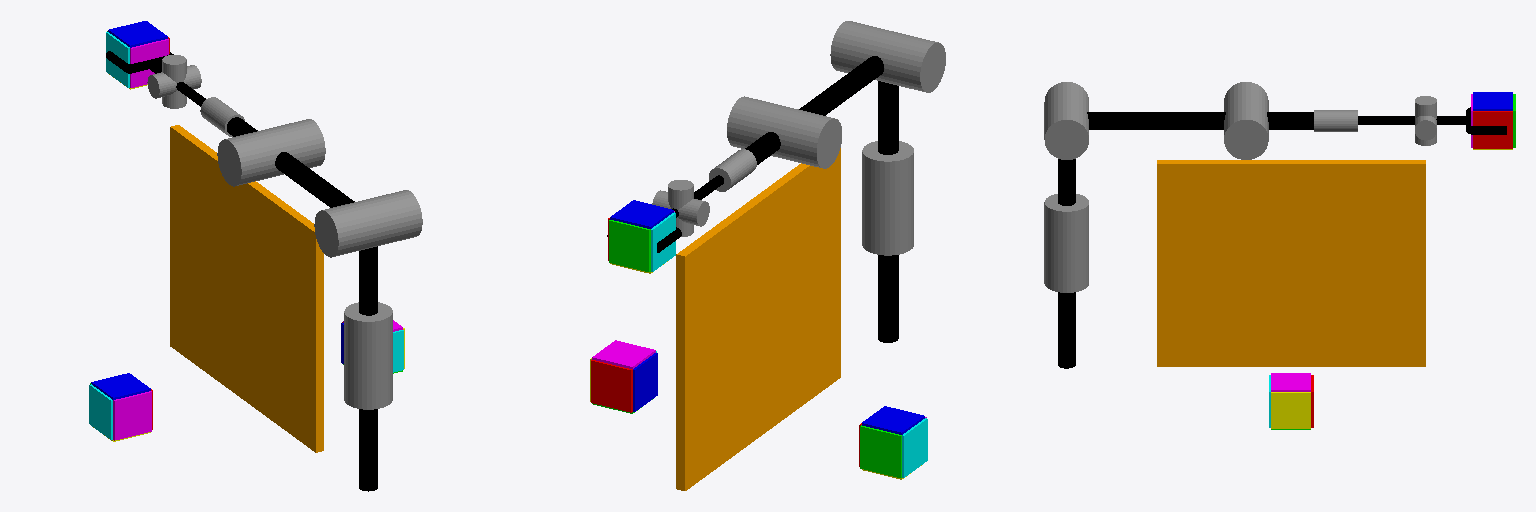
--- Render facts (derived) ---
3 views of the same robot in one strip: view 1: azimuth 30°, elevation 25°; view 2: azimuth 150°, elevation 25°; view 3: azimuth 270°, elevation 25° (orthographic).
Model sixDOF with 48 links and 47 joints (6 continuous, 41 fixed), rooted at world, posed every joint at zero.
Links seen in each view (by area): view 1: wall, motor2, motor1, motor3, rcub-ym, mount3, mount1, mount2, rcub-xm, cube-ym, rcub-zp, cube-zp (+4 smaller); view 2: wall, motor1, motor2, motor3, lcub-xp, rcub-yp, cube-yp, mount1, mount3, mount2, rcub-xm, lcub-zp (+8 smaller); view 3: wall, motor1, motor2, motor3, mount3, lcub-zm, mount1, cube-xp, motor4, mount4, mount2, cube-zp (+2 smaller).
Link boxes in pixels (<box>): wall: <box>170,125,323,452</box>; motor2: <box>314,190,422,257</box>; motor1: <box>344,302,392,409</box>; motor3: <box>217,119,325,186</box>; rcub-ym: <box>113,391,151,440</box>; mount3: <box>275,152,354,207</box>; mount1: <box>359,409,377,491</box>; mount2: <box>359,246,377,315</box>; rcub-xm: <box>89,384,112,439</box>; cube-ym: <box>130,39,168,87</box>; rcub-zp: <box>91,373,150,399</box>; cube-zp: <box>108,21,167,47</box>; wall: <box>676,148,840,490</box>; motor1: <box>862,141,913,255</box>; motor2: <box>830,21,945,92</box>; motor3: <box>727,96,841,168</box>; lcub-xp: <box>591,360,632,412</box>; rcub-yp: <box>860,425,901,477</box>; cube-yp: <box>609,220,650,271</box>; mount1: <box>878,255,898,342</box>; mount3: <box>799,56,883,115</box>; mount2: <box>878,81,898,154</box>; rcub-xm: <box>902,418,927,477</box>; lcub-zp: <box>633,353,657,411</box>; wall: <box>1157,160,1425,366</box>; motor1: <box>1044,194,1088,292</box>; motor2: <box>1044,82,1088,159</box>; motor3: <box>1224,82,1268,159</box>; mount3: <box>1087,112,1225,129</box>; lcub-zm: <box>1271,392,1310,428</box>; mount1: <box>1058,292,1075,368</box>; cube-xp: <box>1473,111,1512,148</box>; motor4: <box>1314,110,1357,131</box>; mount4: <box>1267,112,1313,129</box>; mount2: <box>1058,159,1075,205</box>; cube-zp: <box>1473,92,1512,110</box>.
Bounding box of the posed robot: 0.7002 × 1.05 × 0.6502 m (x, y, z).
Geometry: primitives only (box / cylinder / sphere), no mesh files.

robot.urdf — sixDOF:
<?xml version="1.0"?>

<robot name="sixDOF">
  
  <!-- *************************************************** -->
  <!-- ******************** Kinematics ******************* -->
  <!-- *************************************************** -->

  <link name="world"/>

  <joint name="theta1" type="continuous">
    <parent link="world"/>
    <child  link="link1"/>
    <origin xyz="0 0 0.6" rpy="0 0 0"/>
    <axis   xyz="0 0 1"/>
    <dynamics damping="0.5"/>
  </joint>

  <link name="link1"/>

  <joint name="theta2" type="continuous">
    <parent link="link1"/>
    <child  link="link2"/>
    <origin xyz="0 0 0" rpy="0 0 0"/>
    <axis   xyz="1 0 0"/>
    <dynamics damping="0.5"/>
  </joint>

  <link name="link2"/>

  <joint name="attach-shoulder" type="fixed">
    <parent link="link2"/>
    <child  link="shoulder"/>
  </joint>

  <link name="shoulder"/>

  <joint name="theta3" type="continuous">
    <parent link="link2"/>
    <child  link="link3"/>
    <origin xyz="0 0.4 0" rpy="0 0 0"/>
    <axis   xyz="1 0 0 "/>
    <dynamics damping="0.1"/>
  </joint>

  <link name="link3"/>

  <joint name="attach-elbow" type="fixed">
    <parent link="link3"/>
    <child  link="elbow"/>
  </joint>

  <link name="elbow"/>

  <joint name="theta4" type="continuous">
    <parent link="link3"/>
    <child  link="link4"/>
    <origin xyz="0 0.4 0" rpy="0 0 0"/>
    <axis   xyz="0 1 0"/>
    <dynamics damping="0.02"/>
  </joint>

  <link name="link4"/>

  <joint name="theta5" type="continuous">
    <parent link="link4"/>
    <child  link="link5"/>
    <origin xyz="0 0 0" rpy="0 0 0"/>
    <axis   xyz="0 0 1"/>
    <dynamics damping="0.02"/>
  </joint>

  <link name="link5"/>

  <joint name="theta6" type="continuous">
    <parent link="link5"/>
    <child  link="link6"/>
    <origin xyz="0 0 0" rpy="0 0 0"/>
    <axis   xyz="1 0 0"/>
    <dynamics damping="0.02"/>
  </joint>

  <link name="link6"/>

  <joint name="attach-wrist" type="fixed">
    <parent link="link6"/>
    <child  link="wrist"/>
  </joint>

  <link name="wrist"/>

  <joint name="final" type="fixed">
    <parent link="link6"/>
    <child  link="tip"/>
    <origin xyz="0 0.15 0" rpy="0 0 0"/>
  </joint>

  <link name="tip"/>


  <!-- *************************************************** -->
  <!-- ******************* RVIZ Colors ******************* -->
  <!-- *************************************************** -->

  <material name="white">    <color rgba="1.00 1.00 1.00 1"/>  </material>
  <material name="gray">     <color rgba="0.60 0.60 0.60 1"/>  </material>
  <material name="table">    <color rgba="0.85 0.77 0.77 1"/>  </material>
  <material name="black">    <color rgba="0.00 0.00 0.00 1"/>  </material>

  <material name="red">      <color rgba="1.00 0.00 0.00 1"/>  </material>
  <material name="green">    <color rgba="0.00 1.00 0.00 1"/>  </material>
  <material name="blue">     <color rgba="0.00 0.00 1.00 1"/>  </material>

  <material name="cyan">     <color rgba="0.00 1.00 1.00 1"/>  </material>
  <material name="magenta">  <color rgba="1.00 0.00 1.00 1"/>  </material>
  <material name="yellow">   <color rgba="1.00 1.00 0.00 1"/>  </material>

  <material name="orange">   <color rgba="1.00 0.65 0.00 1"/>  </material>


  <!-- *************************************************** -->
  <!-- ****** Building Blocks (Visual AND Inertial) ****** -->
  <!-- *************************************************** -->

  <!-- *** World-Fixed: Mount 1, Motor 1 *** -->

  <joint name="attach-mount1" type="fixed">
    <parent link="world"/>
    <child  link="mount1"/>
  </joint>
  <link name="mount1">
    <visual>
      <origin xyz="0 0 0.1" rpy="0 0 0"/>
      <geometry>
	<cylinder length="0.2" radius="0.02"/>
      </geometry>
      <material name="black"/>
    </visual>
    <collision>
      <origin xyz="0 0 0.1" rpy="0 0 0"/>
      <geometry>
	<cylinder length="0.2" radius="0.02"/>
      </geometry>
    </collision>
    <inertial>
      <origin xyz="0 0 0.1" rpy="0 0 0"/>
      <mass value="0.2"/>
      <inertia
        ixx="0.000687" ixy="0.0" ixz="0.0"
        iyy="0.000687" iyz="0.0"
        izz="0.000040"/>
    </inertial>
  </link>

  <joint name="attach-motor1" type="fixed">
    <parent link="world"/>
    <child  link="motor1"/>
  </joint>
  <link name="motor1">
    <visual>
      <origin xyz="0 0 0.3" rpy="0 0 0"/>
      <geometry>
	<cylinder length="0.2" radius="0.05"/>
      </geometry>
      <material name="gray"/>
    </visual>
    <collision>
      <origin xyz="0 0 0.3" rpy="0 0 0"/>
      <geometry>
	<cylinder length="0.2" radius="0.05"/>
      </geometry>
    </collision>
    <inertial>
      <origin xyz="0 0 0.3" rpy="0 0 0"/>
      <mass value="2.0"/>
      <inertia
        ixx="0.007917" ixy="0.0" ixz="0.0"
        iyy="0.007917" iyz="0.0"
        izz="0.002500"/>
    </inertial>
  </link>

  <!-- *** Motor 1 Output: Mount 2, Motor 2 *** -->

  <joint name="attach-mount2" type="fixed">
    <parent link="link1"/>
    <child  link="mount2"/>
  </joint>
  <link name="mount2">
    <visual>
      <origin xyz="0 0 -0.1" rpy="0 0 0"/>
      <geometry>
	<cylinder length="0.2" radius="0.02"/>
      </geometry>
      <material name="black"/>
    </visual>
    <collision>
      <origin xyz="0 0 -0.1" rpy="0 0 0"/>
      <geometry>
	<cylinder length="0.2" radius="0.02"/>
      </geometry>
    </collision>
    <inertial>
      <origin xyz="0 0 -0.1" rpy="0 0 0"/>
      <mass value="0.2"/>
      <inertia
        ixx="0.000687" ixy="0.0" ixz="0.0"
        iyy="0.000687" iyz="0.0"
        izz="0.000040"/>
    </inertial>
  </link>

  <joint name="attach-motor2" type="fixed">
    <parent link="link1"/>
    <child  link="motor2"/>
  </joint>
  <link name="motor2">
    <visual>
      <origin xyz="0 0 0" rpy="0 1.5708 0"/>
      <geometry>
	<cylinder length="0.2" radius="0.05"/>
      </geometry>
      <material name="gray"/>
    </visual>
    <collision>
      <origin xyz="0 0 0" rpy="0 1.5708 0"/>
      <geometry>
	<cylinder length="0.2" radius="0.05"/>
      </geometry>
    </collision>
    <inertial>
      <origin xyz="0 0 0" rpy="0 1.5708 0"/>
      <mass value="2.0"/>
      <inertia
        ixx="0.007917" ixy="0.0" ixz="0.0"
        iyy="0.007917" iyz="0.0"
        izz="0.002500"/>
    </inertial>
  </link>

  <!-- *** Motor 2 Output: Mount 3, Motor 3 *** -->

  <joint name="attach-mount3" type="fixed">
    <parent link="link2"/>
    <child  link="mount3"/>
  </joint>
  <link name="mount3">
    <visual>
      <origin xyz="0 0.2 0" rpy="1.5708 0 0"/>
      <geometry>
	<cylinder length="0.4" radius="0.02"/>
      </geometry>
      <material name="black"/>
    </visual>
    <collision>
      <origin xyz="0 0.2 0" rpy="1.5708 0 0"/>
      <geometry>
	<cylinder length="0.4" radius="0.02"/>
      </geometry>
    </collision>
    <inertial>
      <origin xyz="0 0.2 0" rpy="1.5708 0 0"/>
      <mass value="0.4"/>
      <inertia
        ixx="0.005373" ixy="0.0" ixz="0.0"
        iyy="0.005373" iyz="0.0"
        izz="0.000080"/>
    </inertial>
  </link>

  <joint name="attach-motor3" type="fixed">
    <parent link="link2"/>
    <child  link="motor3"/>
  </joint>
  <link name="motor3">
    <visual>
      <origin xyz="0 0.4 0" rpy="0 1.5708 0"/>
      <geometry>
	<cylinder length="0.2" radius="0.05"/>
      </geometry>
      <material name="gray"/>
    </visual>
    <collision>
      <origin xyz="0 0.4 0" rpy="0 1.5708 0"/>
      <geometry>
	<cylinder length="0.2" radius="0.05"/>
      </geometry>
    </collision>
    <inertial>
      <origin xyz="0 0.4 0" rpy="0 1.5708 0"/>
      <mass value="2.0"/>
      <inertia
        ixx="0.007917" ixy="0.0" ixz="0.0"
        iyy="0.007917" iyz="0.0"
        izz="0.002500"/>
    </inertial>
  </link>

  <!-- *** Motor 3 Output: Mount 4, Motor 4 *** -->

  <joint name="attach-mount4" type="fixed">
    <parent link="link3"/>
    <child  link="mount4"/>
  </joint>
  <link name="mount4">
    <visual>
      <origin xyz="0 0.1 0" rpy="1.5708 0 0"/>
      <geometry>
	<cylinder length="0.2" radius="0.02"/>
      </geometry>
      <material name="black"/>
    </visual>
    <collision>
      <origin xyz="0 0.1 0" rpy="1.5708 0 0"/>
      <geometry>
	<cylinder length="0.2" radius="0.02"/>
      </geometry>
    </collision>
    <inertial>
      <origin xyz="0 0.1 0" rpy="1.5708 0 0"/>
      <mass value="0.2"/>
      <inertia
        ixx="0.000687" ixy="0.0" ixz="0.0"
        iyy="0.000687" iyz="0.0"
        izz="0.000040"/>
    </inertial>
  </link>

  <joint name="attach-motor4" type="fixed">
    <parent link="link3"/>
    <child  link="motor4"/>
  </joint>
  <link name="motor4">
    <visual>
      <origin xyz="0 0.2 0" rpy="1.5708 0 0"/>
      <geometry>
	<cylinder length="0.1" radius="0.025"/>
      </geometry>
      <material name="gray"/>
    </visual>
    <collision>
      <origin xyz="0 0.2 0" rpy="1.5708 0 0"/>
      <geometry>
	<cylinder length="0.1" radius="0.025"/>
      </geometry>
    </collision>
    <inertial>
      <origin xyz="0 0.2 0" rpy="1.5708 0 0"/>
      <mass value="1.0"/>
      <inertia
        ixx="0.000990" ixy="0.0" ixz="0.0"
        iyy="0.000990" iyz="0.0"
        izz="0.000313"/>
    </inertial>
  </link>

  <!-- *** Motor 4 Output: Mount 5, Motor 5 *** -->

  <joint name="attach-mount5" type="fixed">
    <parent link="link4"/>
    <child  link="mount5"/>
  </joint>
  <link name="mount5">
    <visual>
      <origin xyz="0 -0.1 0" rpy="1.5708 0 0"/>
      <geometry>
	<cylinder length="0.2" radius="0.01"/>
      </geometry>
      <material name="black"/>
    </visual>
    <collision>
      <origin xyz="0 -0.1 0" rpy="1.5708 0 0"/>
      <geometry>
	<cylinder length="0.2" radius="0.01"/>
      </geometry>
    </collision>
    <inertial>
      <origin xyz="0 -0.1 0" rpy="1.5708 0 0"/>
      <mass value="0.1"/>
      <inertia
        ixx="0.000336" ixy="0.0" ixz="0.0"
        iyy="0.000336" iyz="0.0"
        izz="0.000005"/>
    </inertial>
  </link>

  <joint name="attach-motor5" type="fixed">
    <parent link="link4"/>
    <child  link="motor5"/>
  </joint>
  <link name="motor5">
    <visual>
      <origin xyz="0 0 0" rpy="0 0 0"/>
      <geometry>
	<cylinder length="0.1" radius="0.025"/>
      </geometry>
      <material name="gray"/>
    </visual>
    <collision>
      <origin xyz="0 0 0" rpy="0 0 0"/>
      <geometry>
	<cylinder length="0.1" radius="0.025"/>
      </geometry>
    </collision>
    <inertial>
      <origin xyz="0 0 0" rpy="0 0 0"/>
      <mass value="1.0"/>
      <inertia
        ixx="0.000990" ixy="0.0" ixz="0.0"
        iyy="0.000990" iyz="0.0"
        izz="0.000313"/>
    </inertial>
  </link>

  <!-- *** Motor 5 Output: Motor 6 *** -->

  <joint name="attach-motor6" type="fixed">
    <parent link="link5"/>
    <child  link="motor6"/>
  </joint>
  <link name="motor6">
    <visual>
      <origin xyz="0 0 0" rpy="0 1.5708 0"/>
      <geometry>
	<cylinder length="0.1" radius="0.025"/>
      </geometry>
      <material name="gray"/>
    </visual>
    <collision>
      <origin xyz="0 0 0" rpy="0 1.5708 0"/>
      <geometry>
	<cylinder length="0.1" radius="0.025"/>
      </geometry>
    </collision>
    <inertial>
      <origin xyz="0 0 0" rpy="0 1.5708 0"/>
      <mass value="1.0"/>
      <inertia
        ixx="0.000990" ixy="0.0" ixz="0.0"
        iyy="0.000990" iyz="0.0"
        izz="0.000313"/>
    </inertial>
  </link>

  <!-- *** Motor 6 Output: Base, Palm, Fingers *** -->

  <joint name="attach-handbase" type="fixed">
    <parent link="link6"/>
    <child  link="handbase"/>
  </joint>
  <link name="handbase">
    <visual>
      <origin xyz="0 0.05 0" rpy="1.5708 0 0"/>
      <geometry>
	<cylinder length="0.1" radius="0.01"/>
      </geometry>
      <material name="black"/>
    </visual>
    <collision>
      <origin xyz="0 0.05 0" rpy="1.5708 0 0"/>
      <geometry>
	<cylinder length="0.1" radius="0.01"/>
      </geometry>
    </collision>
    <inertial>
      <origin xyz="0 0.05 0" rpy="1.5708 0 0"/>
      <mass value="0.05"/>
      <inertia
        ixx="0.000043" ixy="0.0" ixz="0.0"
        iyy="0.000043" iyz="0.0"
        izz="0.000003"/>
    </inertial>
  </link>

  <joint name="attach-palm" type="fixed">
    <parent link="link6"/>
    <child  link="palm"/>
  </joint>
  <link name="palm">
    <visual>
      <origin xyz="0 0.1 0" rpy="0 1.5708 0"/>
      <geometry>
	<cylinder length="0.1" radius="0.01"/>
      </geometry>
      <material name="black"/>
    </visual>
    <collision>
      <origin xyz="0 0.1 0" rpy="0 1.5708 0"/>
      <geometry>
	<cylinder length="0.1" radius="0.01"/>
      </geometry>
    </collision>
    <inertial>
      <origin xyz="0 0.1 0" rpy="0 1.5708 0"/>
      <mass value="0.05"/>
      <inertia
        ixx="0.000043" ixy="0.0" ixz="0.0"
        iyy="0.000043" iyz="0.0"
        izz="0.000003"/>
    </inertial>
  </link>

  <joint name="attach-leftfinger" type="fixed">
    <parent link="link6"/>
    <child  link="leftfinger"/>
  </joint>
  <link name="leftfinger">
    <visual>
      <origin xyz="-0.05 0.14 0" rpy="1.5708 0 0"/>
      <geometry>
	<cylinder length="0.08" radius="0.01"/>
      </geometry>
      <material name="black"/>
    </visual>
    <inertial>
      <origin xyz="-0.05 0.14 0" rpy="1.5708 0 0"/>
      <mass value="0.05"/>
      <inertia
        ixx="0.000022" ixy="0.0" ixz="0.0"
        iyy="0.000022" iyz="0.0"
        izz="0.000002"/>
    </inertial>
  </link>

  <joint name="attach-rightfinger" type="fixed">
    <parent link="link6"/>
    <child  link="rightfinger"/>
  </joint>
  <link name="rightfinger">
    <visual>
      <origin xyz="0.05 0.14 0" rpy="1.5708 0 0"/>
      <geometry>
	<cylinder length="0.08" radius="0.01"/>
      </geometry>
      <material name="black"/>
    </visual>
    <inertial>
      <origin xyz="0.05 0.14 0" rpy="1.5708 0 0"/>
      <mass value="0.05"/>
      <inertia
        ixx="0.000022" ixy="0.0" ixz="0.0"
        iyy="0.000022" iyz="0.0"
        izz="0.000002"/>
    </inertial>
  </link>

  <!-- *** Cube: Six sides *** -->

  <joint name="attach-cube" type="fixed">
    <parent link="tip"/>
    <child  link="cube"/>
  </joint>
  <link name="cube">
    <collision>
      <origin xyz="0 0 0" rpy="0 0 0"/>
      <geometry>
	<box size="0.10 0.10 0.10"/>
      </geometry>
    </collision>
    <inertial>
      <origin xyz="0 0 0" rpy="0 0 0"/>
      <mass value="1.0"/>
      <inertia
        ixx="0.000120" ixy="0.0" ixz="0.0"
        iyy="0.000120" iyz="0.0"
        izz="0.000120"/>
    </inertial>
  </link>

  <joint name="attach-cube-xp" type="fixed">
    <parent link="cube"/>
    <child  link="cube-xp"/>
  </joint>
  <link name="cube-xp">
    <visual>
      <origin         xyz=" 0.04   0    0"    rpy="0 0 0"/>
      <geometry> <box size="0.0202 0.09 0.09"/> </geometry>
      <material name="red"/>
    </visual>
  </link>

  <joint name="attach-cube-xm" type="fixed">
    <parent link="cube"/>
    <child  link="cube-xm"/>
  </joint>
  <link name="cube-xm">
    <visual>
      <origin         xyz="-0.04   0    0"    rpy="0 0 0"/>
      <geometry> <box size="0.0202 0.09 0.09"/> </geometry>
      <material name="cyan"/>
    </visual>
  </link>

  <joint name="attach-cube-yp" type="fixed">
    <parent link="cube"/>
    <child  link="cube-yp"/>
  </joint>
  <link name="cube-yp">
    <visual>
      <origin         xyz=" 0    0.04   0"    rpy="0 0 0"/>
      <geometry> <box size="0.09 0.0202 0.09"/> </geometry>
      <material name="green"/>
    </visual>
  </link>

  <joint name="attach-cube-ym" type="fixed">
    <parent link="cube"/>
    <child  link="cube-ym"/>
  </joint>
  <link name="cube-ym">
    <visual>
      <origin         xyz=" 0   -0.04   0"    rpy="0 0 0"/>
      <geometry> <box size="0.09 0.0202 0.09"/> </geometry>
      <material name="magenta"/>
    </visual>
  </link>

  <joint name="attach-cube-zp" type="fixed">
    <parent link="cube"/>
    <child  link="cube-zp"/>
  </joint>
  <link name="cube-zp">
    <visual>
      <origin         xyz=" 0    0    0.04"   rpy="0 0 0"/>
      <geometry> <box size="0.09 0.09 0.0202"/> </geometry>
      <material name="blue"/>
    </visual>
  </link>

  <joint name="attach-cube-zm" type="fixed">
    <parent link="cube"/>
    <child  link="cube-zm"/>
  </joint>
  <link name="cube-zm">
    <visual>
      <origin         xyz=" 0    0   -0.04"   rpy="0 0 0"/>
      <geometry> <box size="0.09 0.09 0.0202"/> </geometry>
      <material name="yellow"/>
    </visual>
  </link>


  <!-- *************************************************** -->
  <!-- ********************* Obstacles ******************* -->
  <!-- *************************************************** -->

  <!-- *** Left Cube *** -->

  <joint name="attach-lcub" type="fixed">
    <parent link="world"/>
    <child  link="lcub"/>
    <origin xyz="0.30 0.50 0.05" rpy="-1.5708 0 1.5708"/>
  </joint>
  <link name="lcub">
    <collision>
      <origin xyz="0 0 0" rpy="0 0 0"/>
      <geometry>
	<box size="0.10 0.10 0.10"/>
      </geometry>
    </collision>
    <inertial>
      <origin xyz="0 0 0" rpy="0 0 0"/>
      <mass value="1.0"/>
      <inertia
        ixx="0.000120" ixy="0.0" ixz="0.0"
        iyy="0.000120" iyz="0.0"
        izz="0.000120"/>
    </inertial>
  </link>

  <joint name="attach-lcub-xp" type="fixed">
    <parent link="lcub"/>
    <child  link="lcub-xp"/>
  </joint>
  <link name="lcub-xp">
    <visual>
      <origin         xyz=" 0.04   0    0"    rpy="0 0 0"/>
      <geometry> <box size="0.0202 0.09 0.09"/> </geometry>
      <material name="red"/>
    </visual>
  </link>

  <joint name="attach-lcub-xm" type="fixed">
    <parent link="lcub"/>
    <child  link="lcub-xm"/>
  </joint>
  <link name="lcub-xm">
    <visual>
      <origin         xyz="-0.04   0    0"    rpy="0 0 0"/>
      <geometry> <box size="0.0202 0.09 0.09"/> </geometry>
      <material name="cyan"/>
    </visual>
  </link>

  <joint name="attach-lcub-yp" type="fixed">
    <parent link="lcub"/>
    <child  link="lcub-yp"/>
  </joint>
  <link name="lcub-yp">
    <visual>
      <origin         xyz=" 0    0.04   0"    rpy="0 0 0"/>
      <geometry> <box size="0.09 0.0202 0.09"/> </geometry>
      <material name="green"/>
    </visual>
  </link>

  <joint name="attach-lcub-ym" type="fixed">
    <parent link="lcub"/>
    <child  link="lcub-ym"/>
  </joint>
  <link name="lcub-ym">
    <visual>
      <origin         xyz=" 0   -0.04   0"    rpy="0 0 0"/>
      <geometry> <box size="0.09 0.0202 0.09"/> </geometry>
      <material name="magenta"/>
    </visual>
  </link>

  <joint name="attach-lcub-zp" type="fixed">
    <parent link="lcub"/>
    <child  link="lcub-zp"/>
  </joint>
  <link name="lcub-zp">
    <visual>
      <origin         xyz=" 0    0    0.04"   rpy="0 0 0"/>
      <geometry> <box size="0.09 0.09 0.0202"/> </geometry>
      <material name="blue"/>
    </visual>
  </link>

  <joint name="attach-lcub-zm" type="fixed">
    <parent link="lcub"/>
    <child  link="lcub-zm"/>
  </joint>
  <link name="lcub-zm">
    <visual>
      <origin         xyz=" 0    0   -0.04"   rpy="0 0 0"/>
      <geometry> <box size="0.09 0.09 0.0202"/> </geometry>
      <material name="yellow"/>
    </visual>
  </link>

  <!-- *** Right Cube *** -->

  <joint name="attach-rcub" type="fixed">
    <parent link="world"/>
    <child  link="rcub"/>
    <origin xyz="-0.30 0.50 0.05" rpy="0 0 0"/>
  </joint>
  <link name="rcub">
    <collision>
      <origin xyz="0 0 0" rpy="0 0 0"/>
      <geometry>
	<box size="0.10 0.10 0.10"/>
      </geometry>
    </collision>
    <inertial>
      <origin xyz="0 0 0" rpy="0 0 0"/>
      <mass value="1.0"/>
      <inertia
        ixx="0.000120" ixy="0.0" ixz="0.0"
        iyy="0.000120" iyz="0.0"
        izz="0.000120"/>
    </inertial>
  </link>

  <joint name="attach-rcub-xp" type="fixed">
    <parent link="rcub"/>
    <child  link="rcub-xp"/>
  </joint>
  <link name="rcub-xp">
    <visual>
      <origin         xyz=" 0.04   0    0"    rpy="0 0 0"/>
      <geometry> <box size="0.0202 0.09 0.09"/> </geometry>
      <material name="red"/>
    </visual>
  </link>

  <joint name="attach-rcub-xm" type="fixed">
    <parent link="rcub"/>
    <child  link="rcub-xm"/>
  </joint>
  <link name="rcub-xm">
    <visual>
      <origin         xyz="-0.04   0    0"    rpy="0 0 0"/>
      <geometry> <box size="0.0202 0.09 0.09"/> </geometry>
      <material name="cyan"/>
    </visual>
  </link>

  <joint name="attach-rcub-yp" type="fixed">
    <parent link="rcub"/>
    <child  link="rcub-yp"/>
  </joint>
  <link name="rcub-yp">
    <visual>
      <origin         xyz=" 0    0.04   0"    rpy="0 0 0"/>
      <geometry> <box size="0.09 0.0202 0.09"/> </geometry>
      <material name="green"/>
    </visual>
  </link>

  <joint name="attach-rcub-ym" type="fixed">
    <parent link="rcub"/>
    <child  link="rcub-ym"/>
  </joint>
  <link name="rcub-ym">
    <visual>
      <origin         xyz=" 0   -0.04   0"    rpy="0 0 0"/>
      <geometry> <box size="0.09 0.0202 0.09"/> </geometry>
      <material name="magenta"/>
    </visual>
  </link>

  <joint name="attach-rcub-zp" type="fixed">
    <parent link="rcub"/>
    <child  link="rcub-zp"/>
  </joint>
  <link name="rcub-zp">
    <visual>
      <origin         xyz=" 0    0    0.04"   rpy="0 0 0"/>
      <geometry> <box size="0.09 0.09 0.0202"/> </geometry>
      <material name="blue"/>
    </visual>
  </link>

  <joint name="attach-rcub-zm" type="fixed">
    <parent link="rcub"/>
    <child  link="rcub-zm"/>
  </joint>
  <link name="rcub-zm">
    <visual>
      <origin         xyz=" 0    0   -0.04"   rpy="0 0 0"/>
      <geometry> <box size="0.09 0.09 0.0202"/> </geometry>
      <material name="yellow"/>
    </visual>
  </link>

  <!-- *** Wall *** -->

  <joint name="attach-wall" type="fixed">
    <parent link="world"/>
    <child  link="wall"/>
    <origin xyz="0.00 0.50 0" rpy="0 0 0"/>
  </joint>
  <link name="wall">
    <visual>
      <origin          xyz="0.00 0.00 0.25" rpy="0 0 0"/>
      <geometry> <box size="0.02 0.60 0.50"/> </geometry>
      <material name="orange"/>
    </visual>
    <collision>
      <origin          xyz="0.00 0.00 0.25" rpy="0 0 0"/>
      <geometry> <box size="0.02 0.60 0.50"/> </geometry>
    </collision>
  </link>


  <!-- *************************************************** -->
  <!-- ******************* Gazebo Colors ***************** -->
  <!-- *************************************************** -->

  <gazebo reference="motor1"> <material>Gazebo/Gray</material>  </gazebo>
  <gazebo reference="motor2"> <material>Gazebo/Gray</material>  </gazebo>
  <gazebo reference="motor3"> <material>Gazebo/Gray</material>  </gazebo>
  <gazebo reference="motor4"> <material>Gazebo/Gray</material>  </gazebo>
  <gazebo reference="motor5"> <material>Gazebo/Gray</material>  </gazebo>
  <gazebo reference="motor6"> <material>Gazebo/Gray</material>  </gazebo>

  <gazebo reference="mount1">   <material>Gazebo/Black</material> </gazebo>
  <gazebo reference="mount2">   <material>Gazebo/Black</material> </gazebo>
  <gazebo reference="mount3">   <material>Gazebo/Black</material> </gazebo>
  <gazebo reference="mount4">   <material>Gazebo/Black</material> </gazebo>
  <gazebo reference="mount5">   <material>Gazebo/Black</material> </gazebo>

  <gazebo reference="handbase">    <material>Gazebo/Black</material> </gazebo>
  <gazebo reference="palm">        <material>Gazebo/Black</material> </gazebo>
  <gazebo reference="leftfinger">  <material>Gazebo/Black</material> </gazebo>
  <gazebo reference="rightfinger"> <material>Gazebo/Black</material> </gazebo>

  <gazebo reference="cube-xp"> <material>Gazebo/Red</material>     </gazebo>
  <gazebo reference="cube-xm"> <material>Gazebo/Cyan</material>    </gazebo>
  <gazebo reference="cube-yp"> <material>Gazebo/Green</material>   </gazebo>
  <gazebo reference="cube-ym"> <material>Gazebo/Magenta</material> </gazebo>
  <gazebo reference="cube-zp"> <material>Gazebo/Blue</material>    </gazebo>
  <gazebo reference="cube-zm"> <material>Gazebo/Yellow</material>  </gazebo>

  <gazebo reference="lcub-xp"> <material>Gazebo/Red</material>     </gazebo>
  <gazebo reference="lcub-xm"> <material>Gazebo/Cyan</material>    </gazebo>
  <gazebo reference="lcub-yp"> <material>Gazebo/Green</material>   </gazebo>
  <gazebo reference="lcub-ym"> <material>Gazebo/Magenta</material> </gazebo>
  <gazebo reference="lcub-zp"> <material>Gazebo/Blue</material>    </gazebo>
  <gazebo reference="lcub-zm"> <material>Gazebo/Yellow</material>  </gazebo>

  <gazebo reference="rcub-xp"> <material>Gazebo/Red</material>     </gazebo>
  <gazebo reference="rcub-xm"> <material>Gazebo/Cyan</material>    </gazebo>
  <gazebo reference="rcub-yp"> <material>Gazebo/Green</material>   </gazebo>
  <gazebo reference="rcub-ym"> <material>Gazebo/Magenta</material> </gazebo>
  <gazebo reference="rcub-zp"> <material>Gazebo/Blue</material>    </gazebo>
  <gazebo reference="rcub-zm"> <material>Gazebo/Yellow</material>  </gazebo>

  <gazebo reference="wall">    <material>Gazebo/Orange</material>  </gazebo>


</robot>
